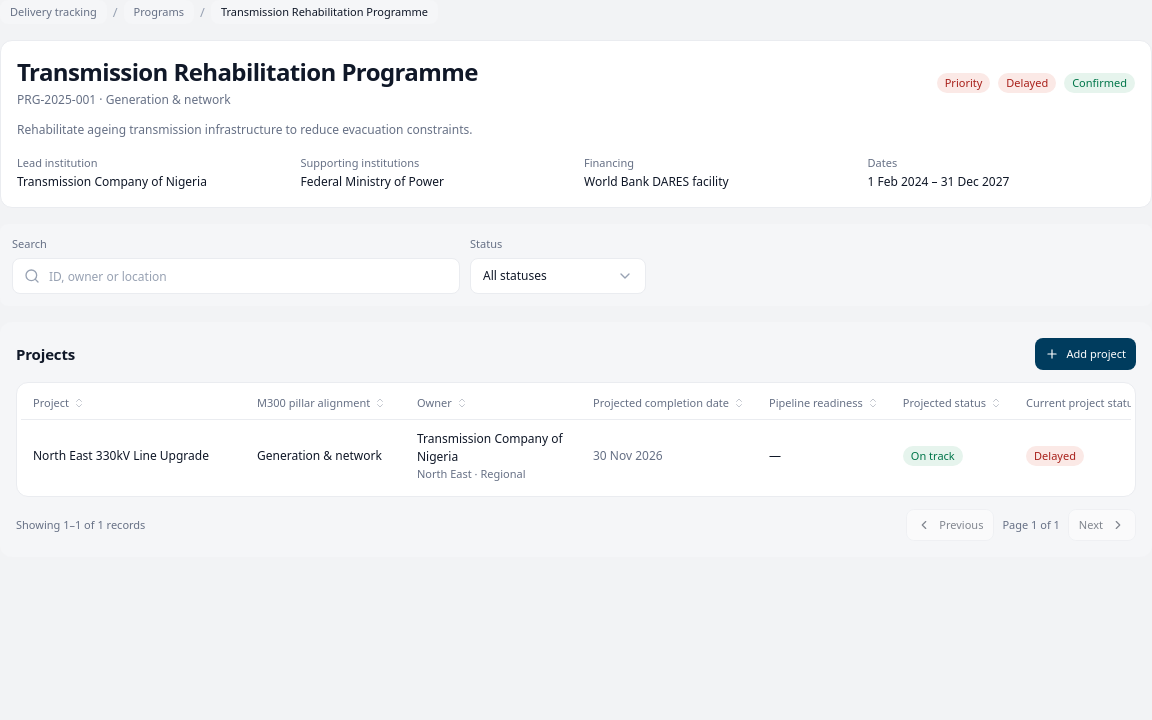
it: ProgrammeDetailPage › navigates to a project's detail page when a project is clicked
The width and height of the screenshot is (1152, 720).
Expected: the heading "Transmission Rehabilitation Programme" is shown, [17, 57, 478, 87]
Click the button "North East 330kV Line Upgrade". click: (133, 456)
box: [33, 447, 233, 465]
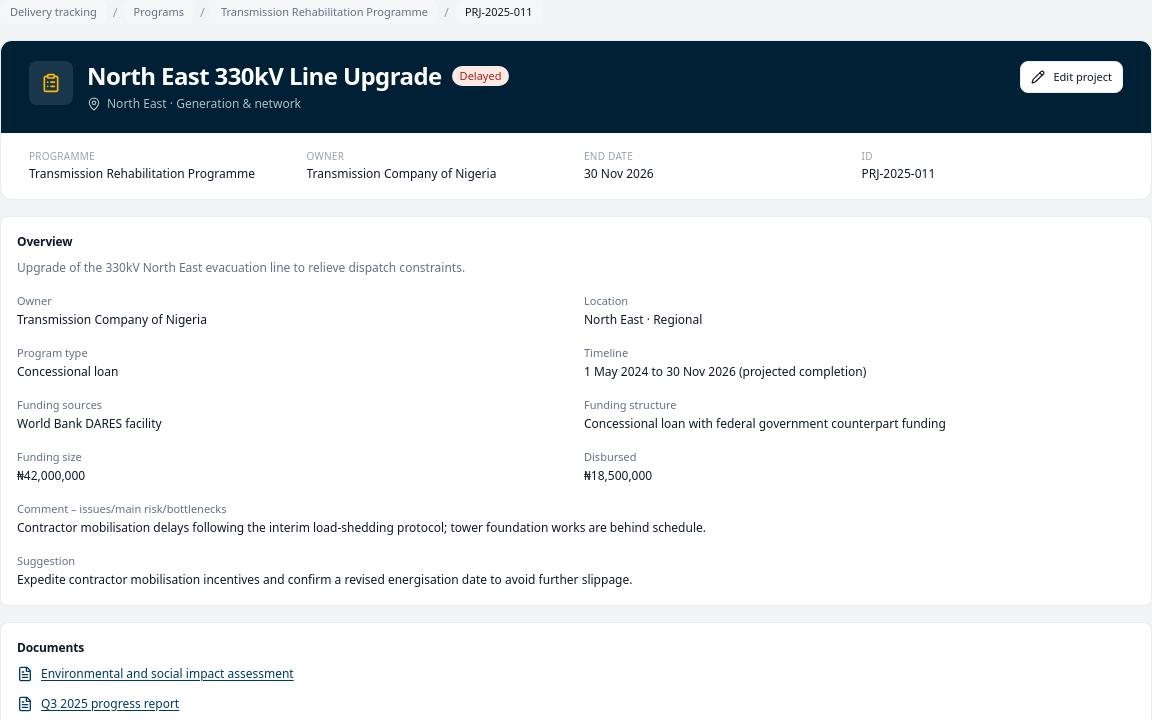
Expected: the heading "North East 330kV Line Upgrade" is shown, [87, 61, 442, 91]
